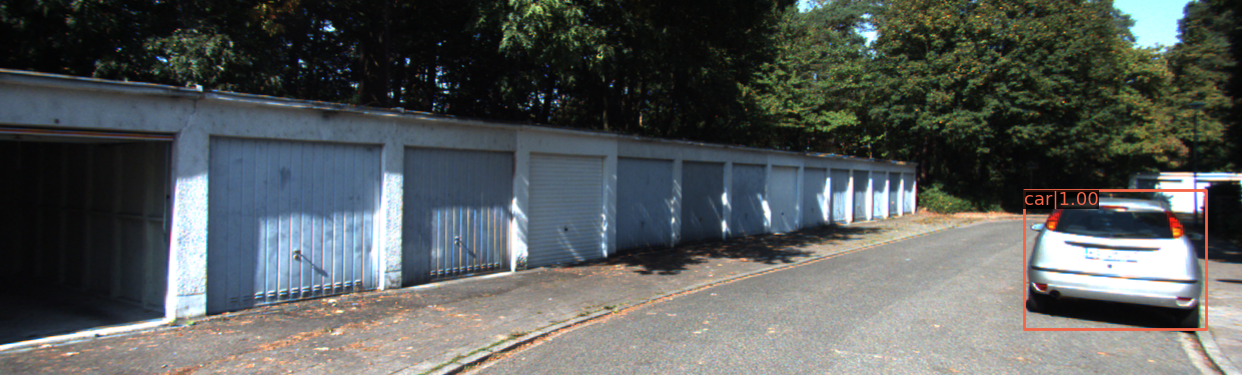car: (1031, 195, 1208, 333)
